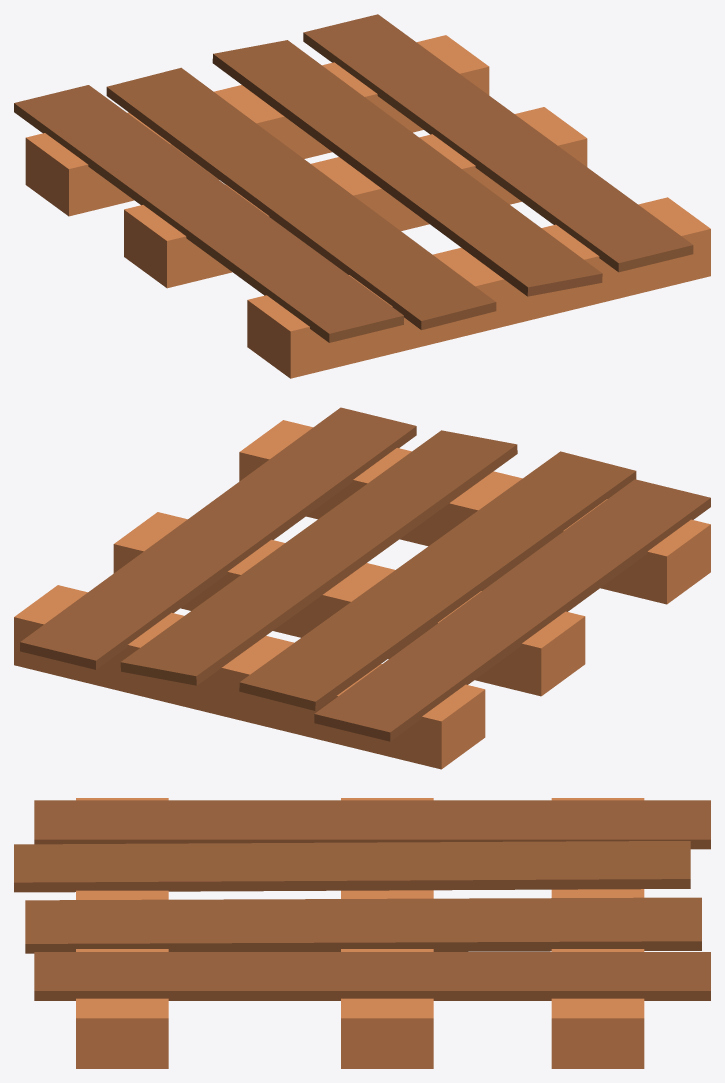
Rendered from pallet kayu.fbx.
3 renders of one model, top to bottom at view 1: azimuth 30°, elevation 25°; view 2: azimuth 150°, elevation 25°; view 3: azimuth 270°, elevation 25°, orthographic. The views are drawn at different scales.
Visible parts, largest first — view 1: Cube.006, Cube.004, Cube, Cube.005, Cube.002, Cube.003, Cube.001; view 2: Cube.006, Cube, Cube.004, Cube.005, Cube.003, Cube.002, Cube.001; view 3: Cube.005, Cube.006, Cube.004, Cube, Cube.002, Cube.003, Cube.001.
Boxes of the visible parts, box(x1,y1,x2,y2) form: Cube.006: box(106, 67, 496, 330); Cube.004: box(303, 14, 693, 272); Cube: box(14, 85, 403, 342); Cube.005: box(212, 40, 602, 296); Cube.002: box(247, 197, 710, 378); Cube.003: box(25, 35, 489, 216); Cube.001: box(124, 107, 587, 288); Cube.006: box(239, 451, 636, 710); Cube: box(314, 479, 710, 741); Cube.004: box(20, 407, 416, 669); Cube.005: box(120, 430, 517, 685); Cube.003: box(14, 585, 485, 769); Cube.002: box(239, 420, 710, 604); Cube.001: box(113, 512, 585, 696); Cube.005: box(25, 897, 701, 953); Cube.006: box(14, 841, 690, 892); Cube.004: box(34, 952, 710, 1000); Cube: box(34, 800, 710, 849); Cube.002: box(76, 798, 168, 1068); Cube.003: box(551, 798, 644, 1068); Cube.001: box(341, 798, 433, 1068).
Size of the model in its own units: 68.89 by 9.26 by 92.15.
